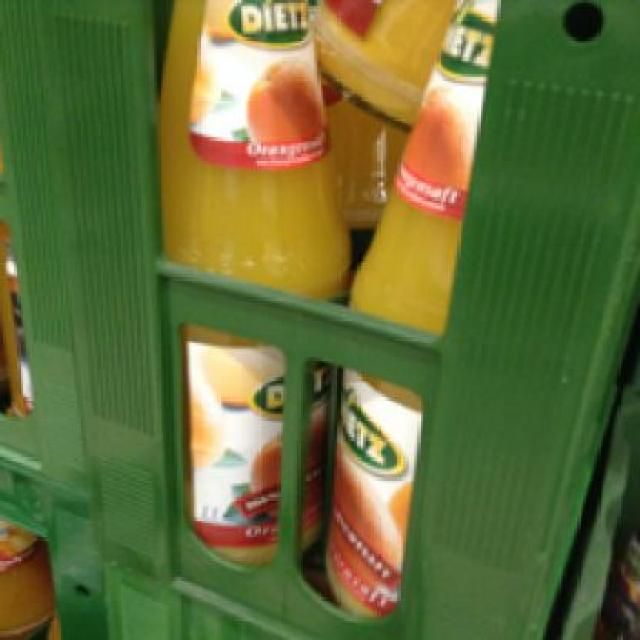Juice: (150, 0, 347, 566), (324, 0, 498, 612)
